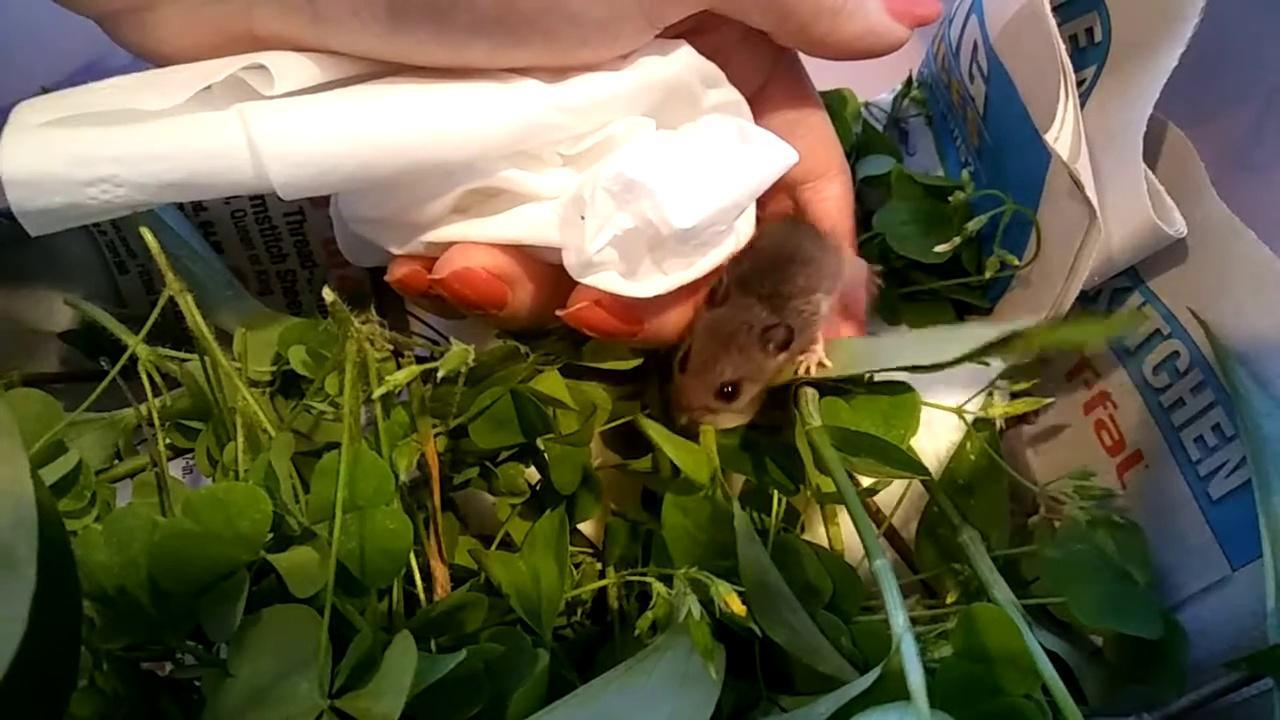rat: (669, 214, 847, 421)
